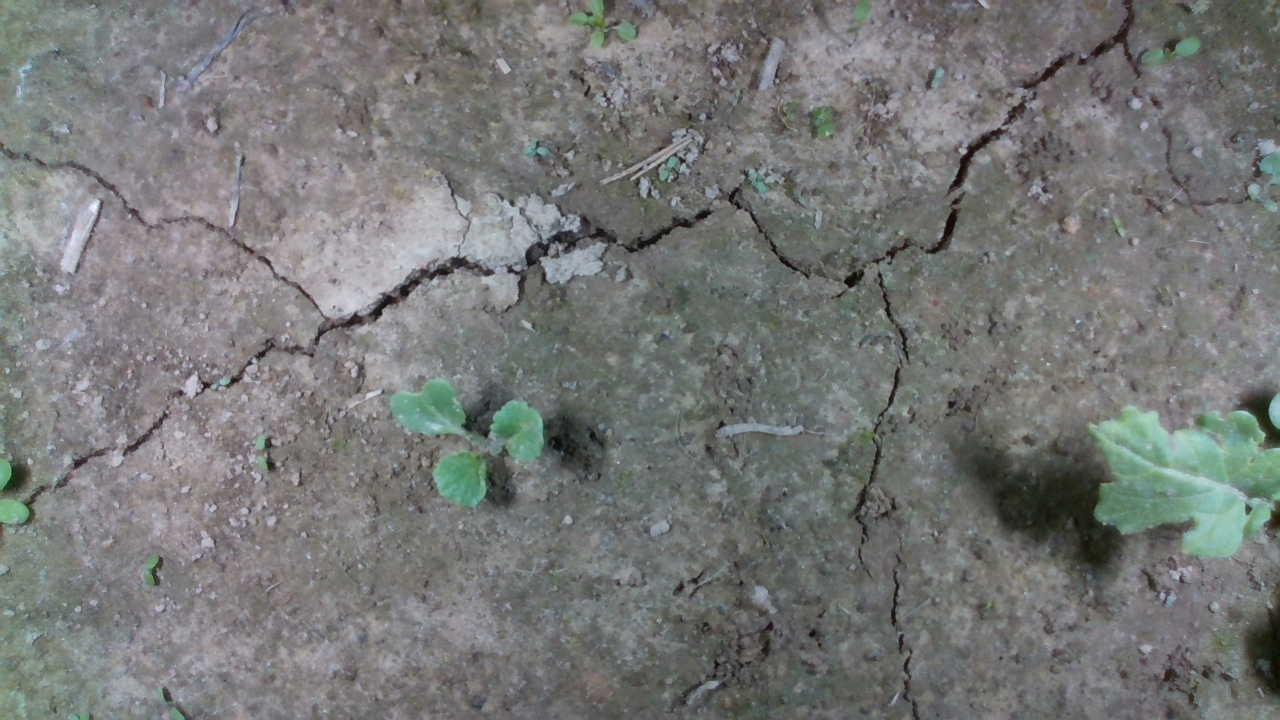weed: (133, 552, 171, 592), (248, 430, 276, 470)
